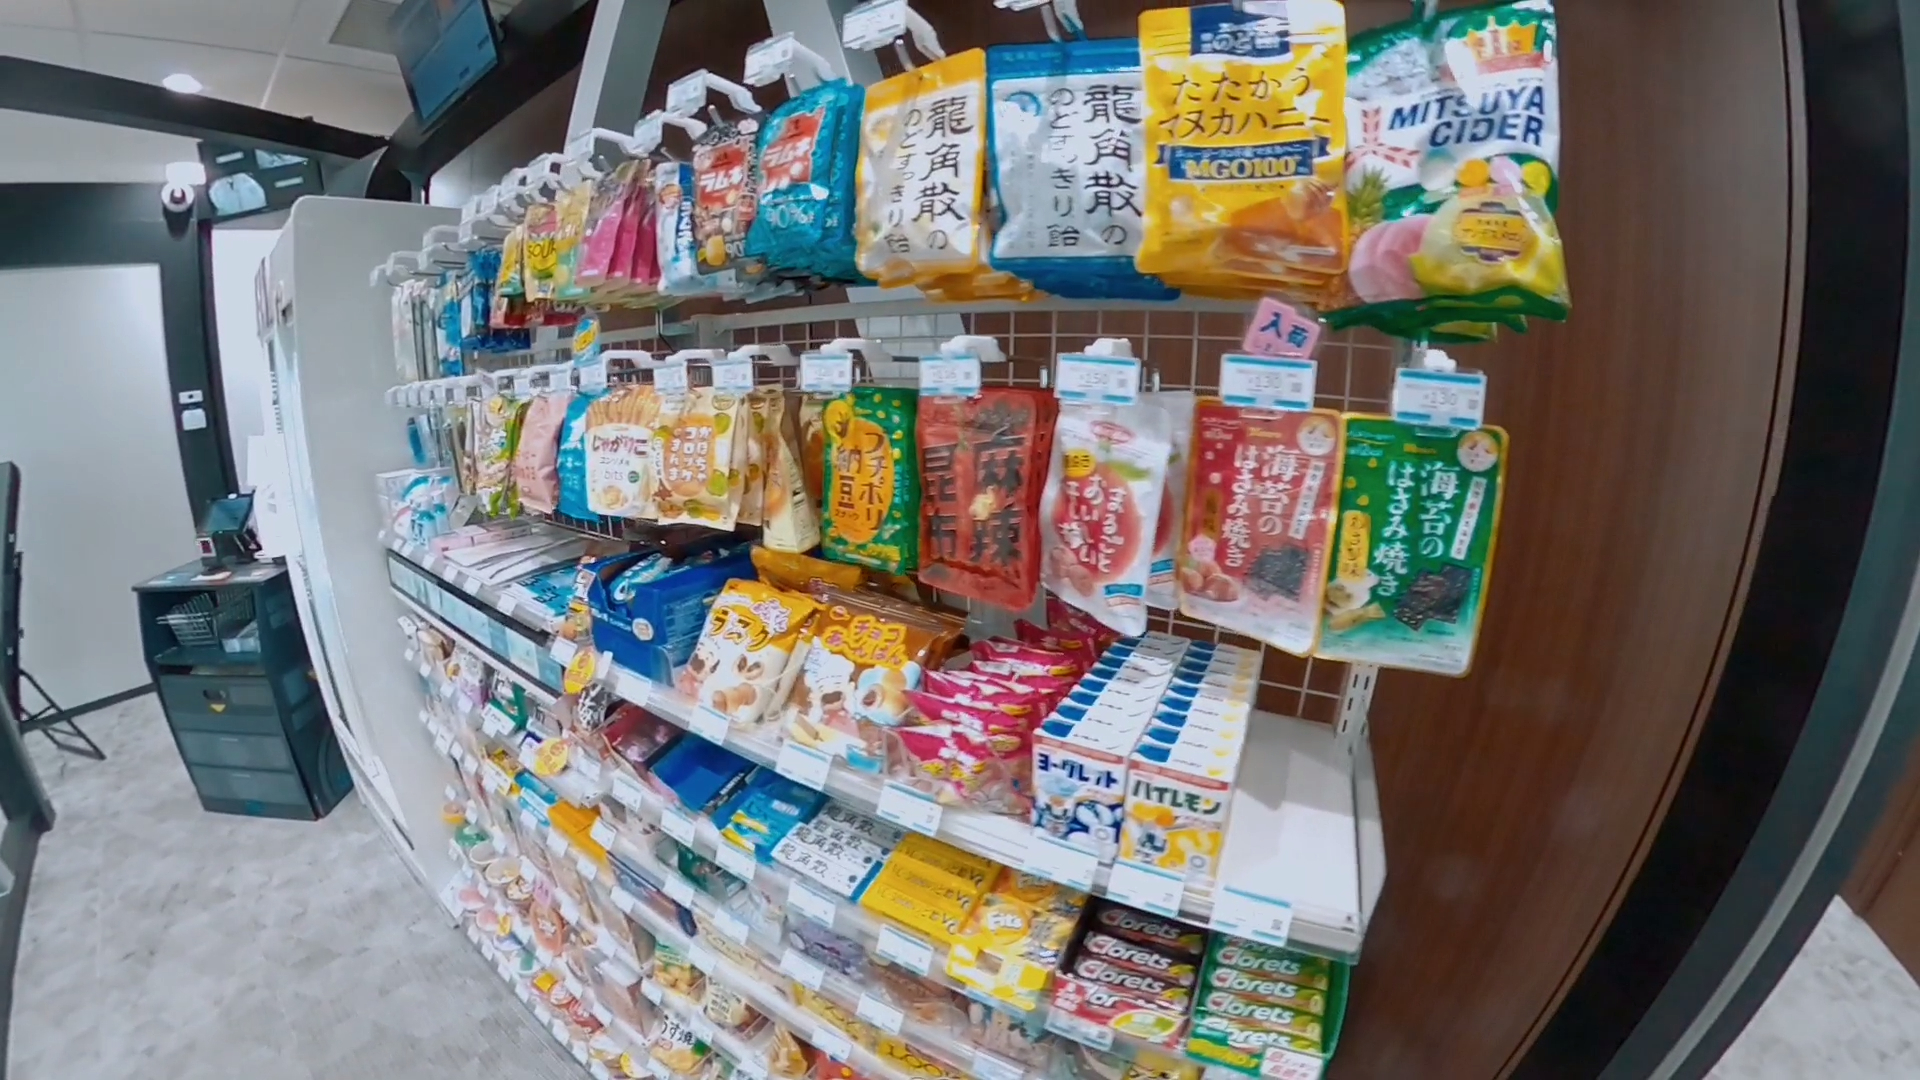NorinoHasamiyaki: (1317, 414, 1509, 674)
